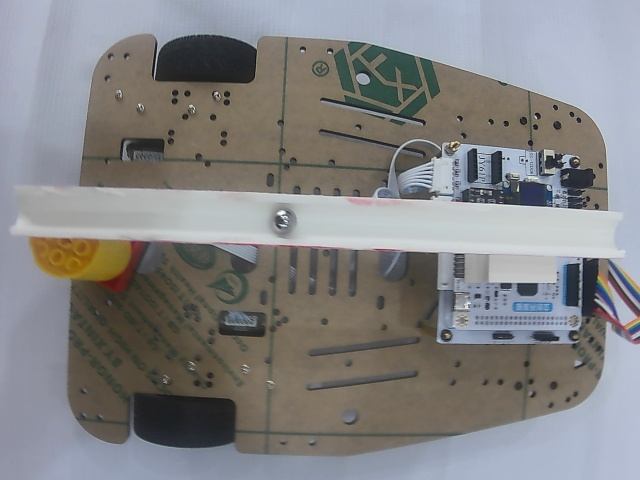steelball: (270, 208, 296, 236)
